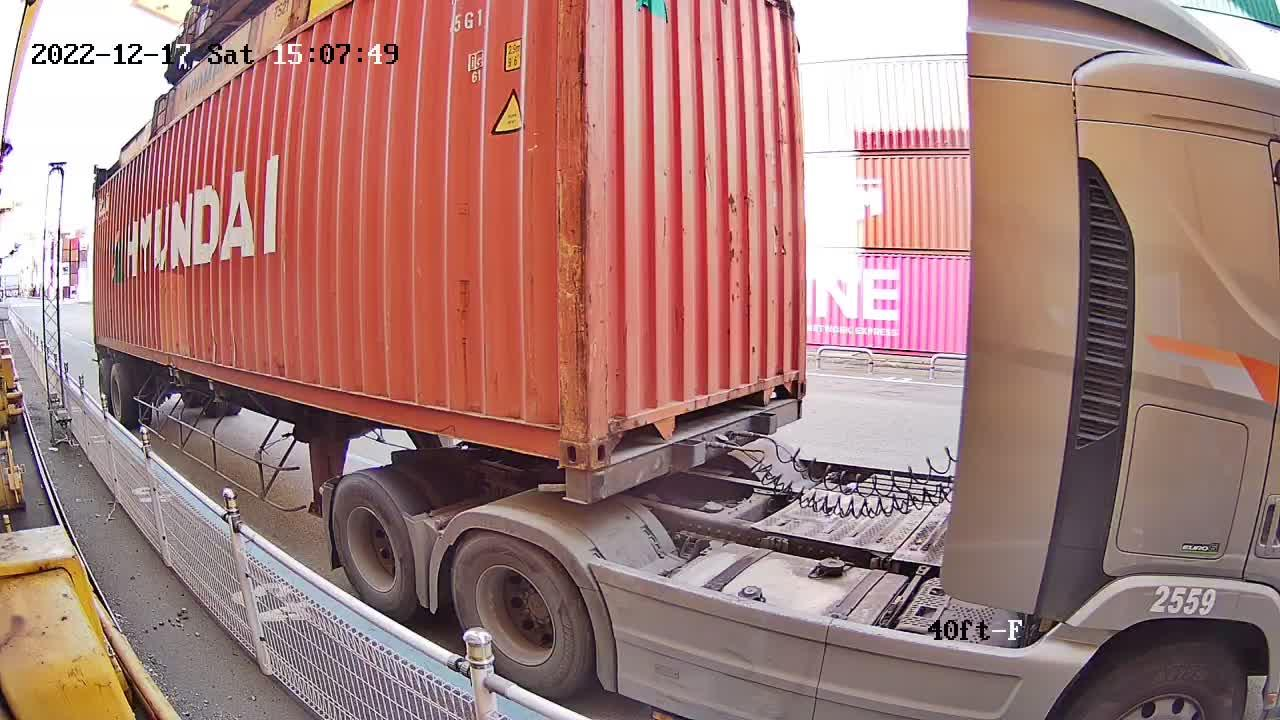Chassis: (588, 400, 805, 505)
Cone: (557, 467, 591, 503)
Hole_L: (589, 398, 649, 468)
Hole_R: (532, 406, 590, 467), (769, 355, 808, 405)
Tire: (452, 532, 588, 693), (330, 476, 414, 611)
